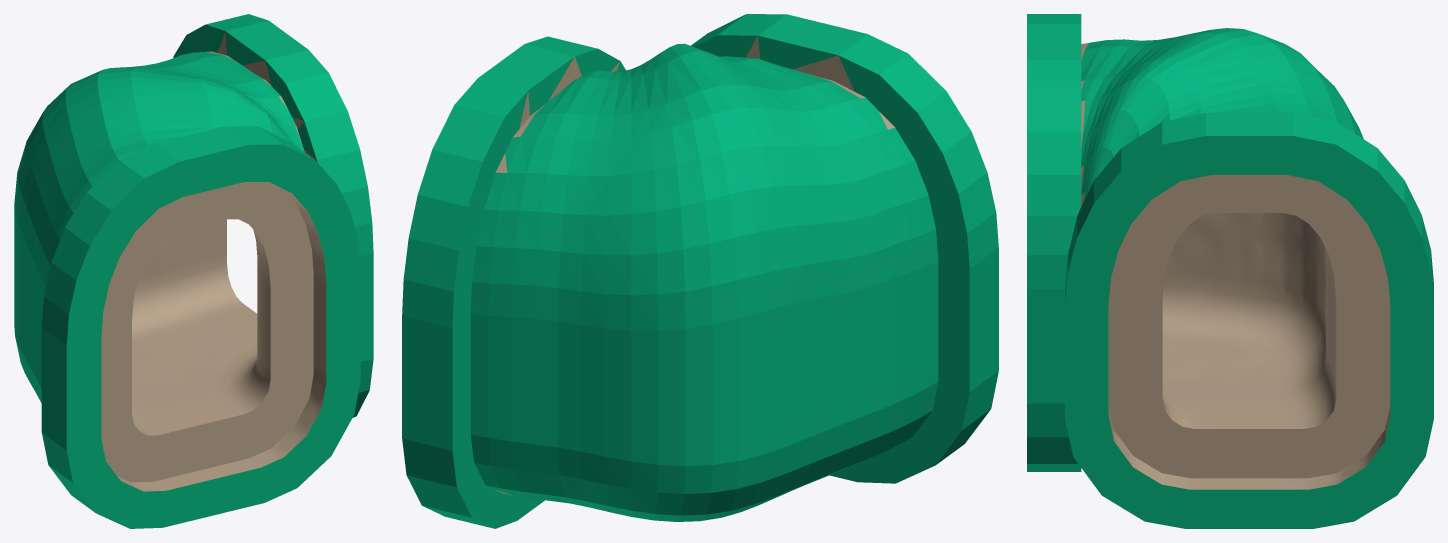
Rendered from TT_Turn90.fbx.
3 views of the same model, side by side, from view 1: azimuth 30°, elevation 25°; view 2: azimuth 150°, elevation 25°; view 3: azimuth 270°, elevation 25° (orthographic). The views are drawn at different scales.
Parts seen in each view (by area): view 1: TT_Turn90_LOD0; view 2: TT_Turn90_LOD0; view 3: TT_Turn90_LOD0.
Part boxes in pixels (<box>): TT_Turn90_LOD0: <box>14,14,373,528</box>; TT_Turn90_LOD0: <box>402,14,998,528</box>; TT_Turn90_LOD0: <box>1027,14,1433,528</box>.
Bounding box in the file's own units: 375 × 411 × 375.
